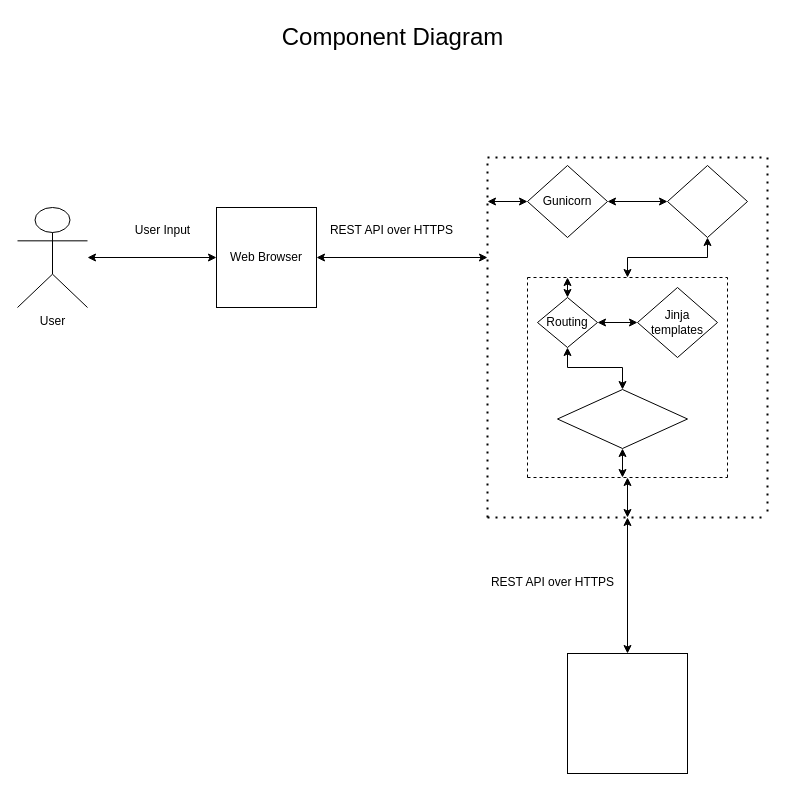
Image size: 787x791. Some labels were removed from this diagram. The shapes that lost their labels are listed below. From the top down, each one's box as (x1, y1, x2, y2) in pixels, then its label:
(666, 164, 748, 238): Flask
(556, 388, 688, 448): Trello_items.py requests
(566, 652, 688, 774): Trello
